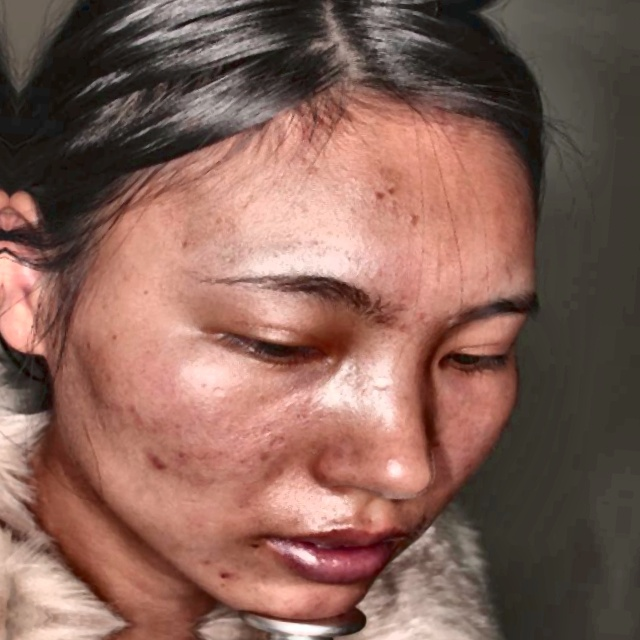comedone: (136, 440, 174, 479)
